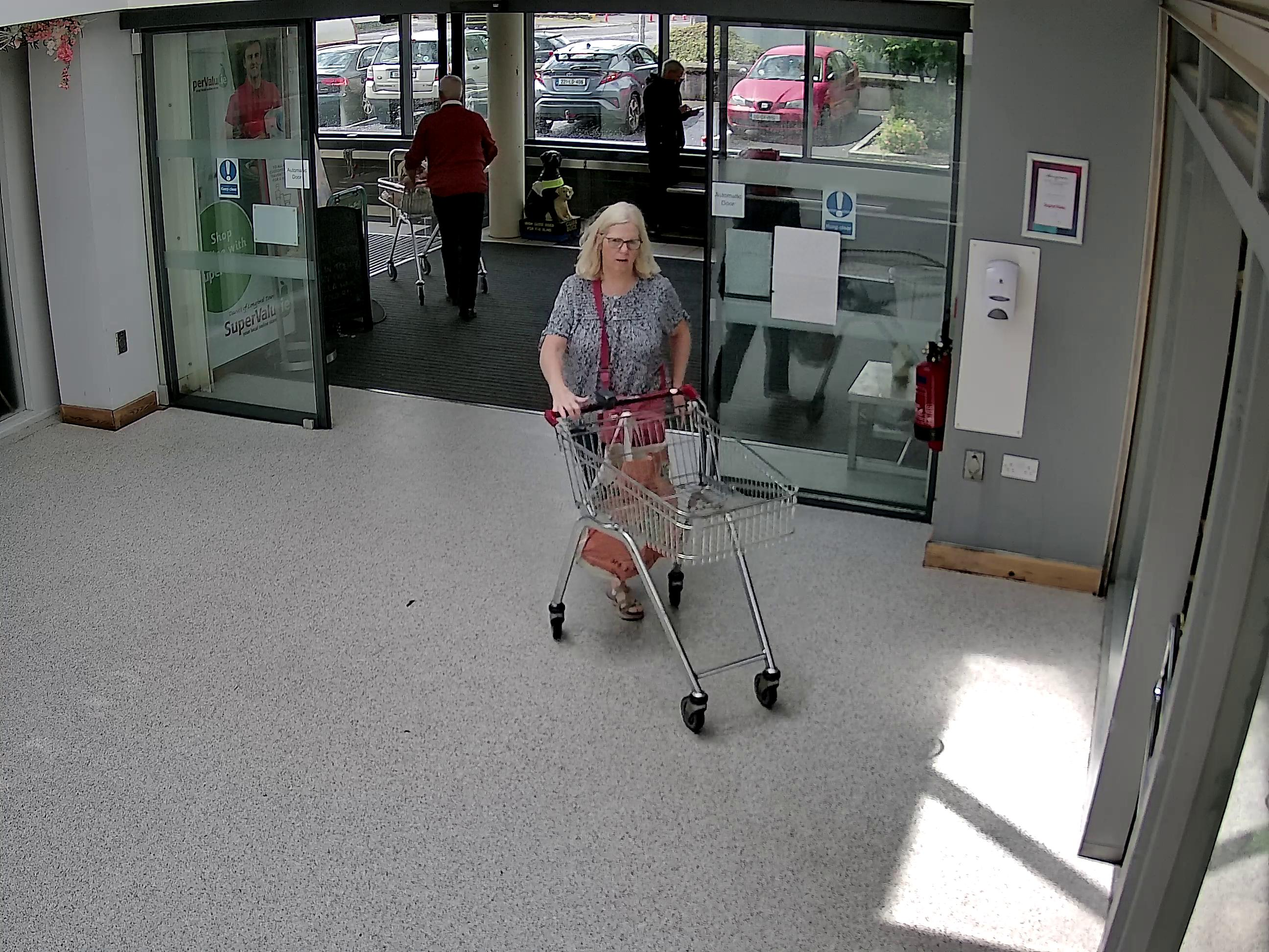backpack-or-handbag: (599, 389, 668, 447)
empty-shopping-bags: (579, 415, 678, 577)
empty-trolly: (543, 385, 799, 733)
person: (540, 202, 692, 617)
person-with-basket-trolly-shopping-bag-s-and-backpack-handbag: (541, 202, 799, 730)
